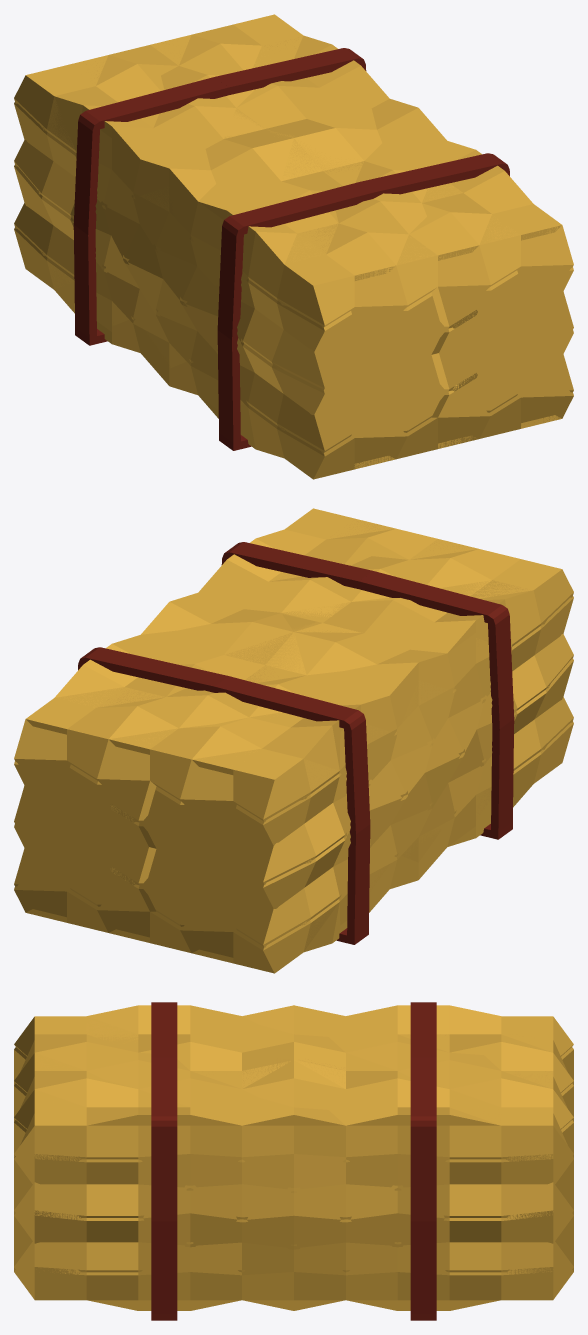
The model's file is HayBale.fbx.
The picture shows the model from 3 angles, top to bottom: view 1: azimuth 30°, elevation 25°; view 2: azimuth 150°, elevation 25°; view 3: azimuth 270°, elevation 25°; orthographic projection. The views are drawn at different scales.
Parts seen in each view (by area): view 1: Cube, Strap 2, Strap 1; view 2: Cube, Strap 2, Strap 1; view 3: Cube, Strap 1, Strap 2.
Part boxes in pixels (bbox=[...]): Cube: bbox=[14, 14, 573, 479]; Strap 2: bbox=[73, 48, 366, 345]; Strap 1: bbox=[217, 153, 509, 450]; Cube: bbox=[14, 508, 573, 973]; Strap 2: bbox=[78, 647, 370, 944]; Strap 1: bbox=[221, 542, 514, 839]; Cube: bbox=[14, 1005, 573, 1310]; Strap 1: bbox=[151, 1002, 177, 1320]; Strap 2: bbox=[410, 1002, 436, 1320].
Size of the model in its own units: 227 by 172 by 432.
